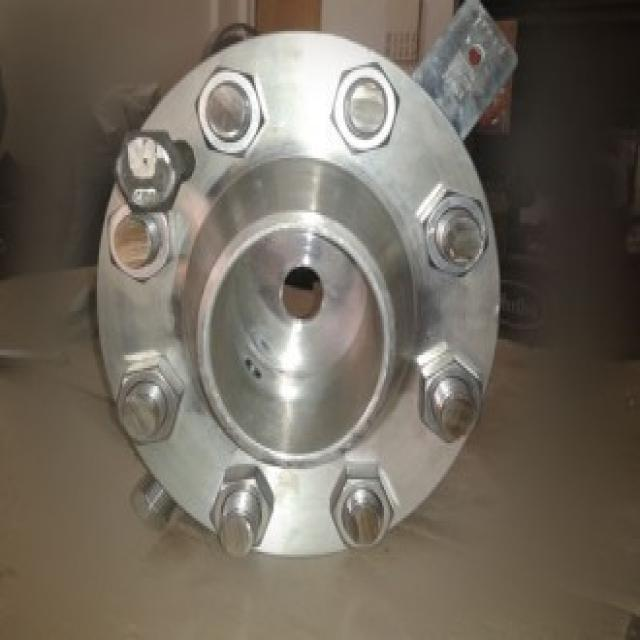bolt head: (109, 122, 184, 215)
bolt nut: (105, 344, 190, 450), (411, 339, 489, 448), (324, 451, 401, 557), (326, 57, 405, 158), (190, 62, 270, 161), (417, 173, 491, 280), (204, 456, 279, 557), (103, 189, 178, 285)
